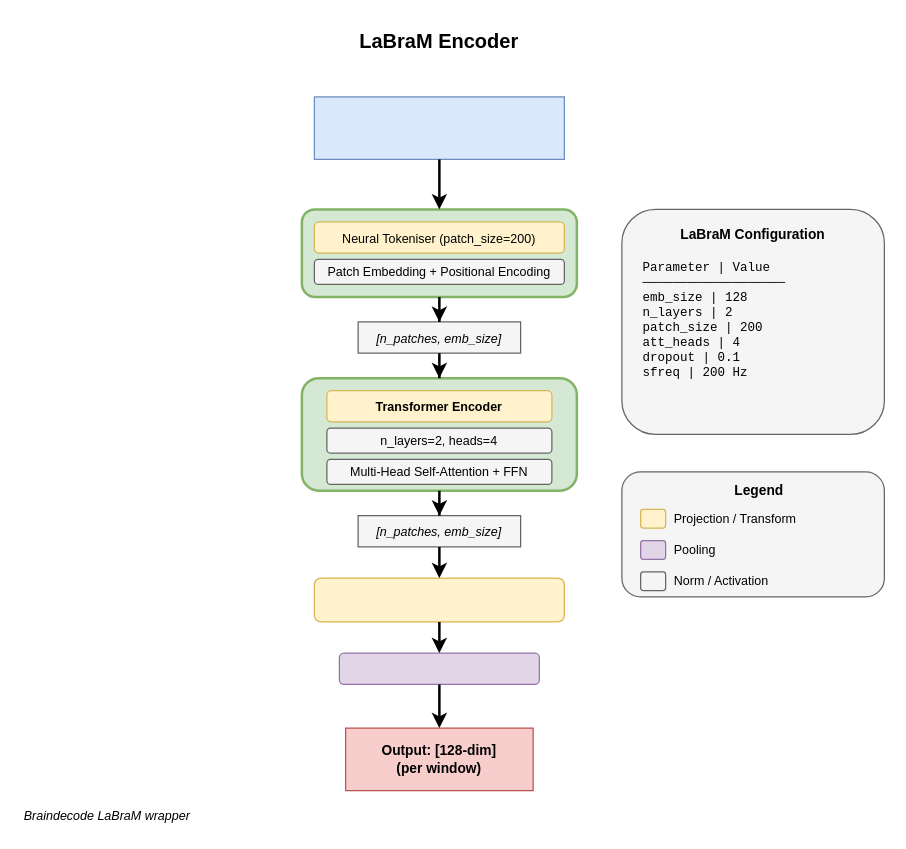
This 906x849 diagram has some shape labels left out. The centre of each missing label's shape, as x and y in pixels:
"Final Layer (projection to emb_size)" belongs at (x=438, y=599).
"Input: [batch, 27, 2000] (channels, samples per window)" belongs at (x=438, y=127).
"Mean Pooling (over patches)" belongs at (x=438, y=668).
